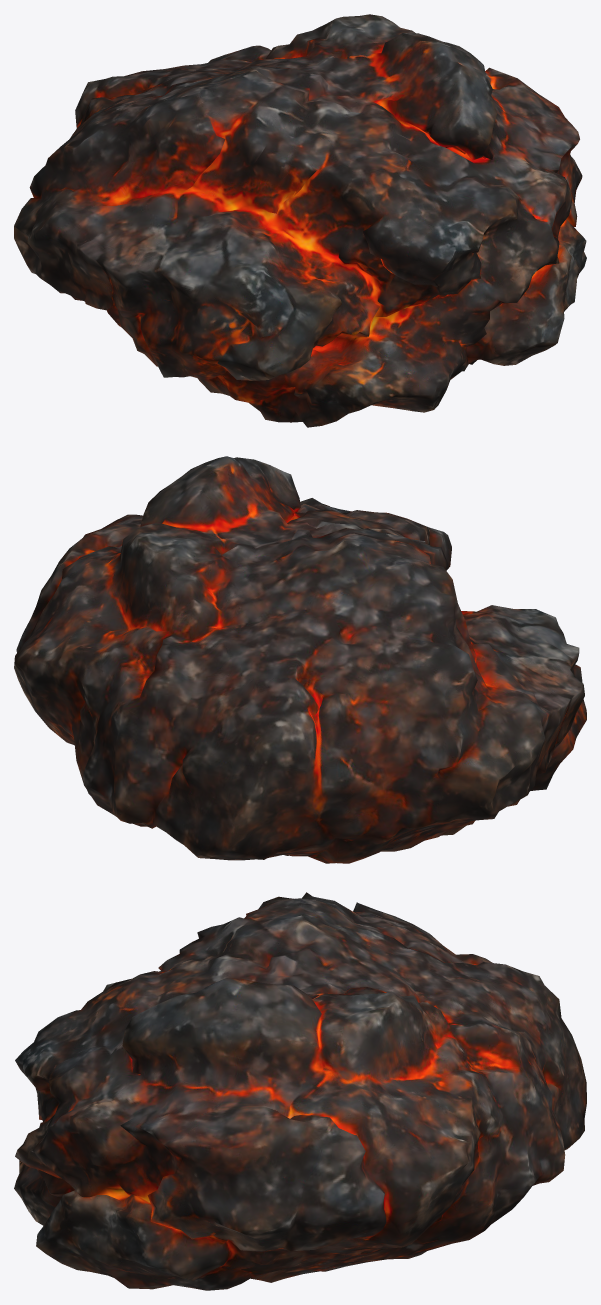
Rendered from lava_rock_a.glb.
3 renders of one model, top to bottom at view 1: azimuth 30°, elevation 25°; view 2: azimuth 150°, elevation 25°; view 3: azimuth 270°, elevation 25°, orthographic. The views are drawn at different scales.
Parts seen in each view (by area): view 1: lava_rock_a; view 2: lava_rock_a; view 3: lava_rock_a.
Boxes of the visible parts, left/top/right/bottom form: lava_rock_a: left=14, top=14, right=586, bottom=427; lava_rock_a: left=14, top=456, right=586, bottom=863; lava_rock_a: left=14, top=892, right=586, bottom=1290.
Bounding box in the file's own units: 0.9575 × 0.5718 × 0.9009.
1 material, 1 textured.
